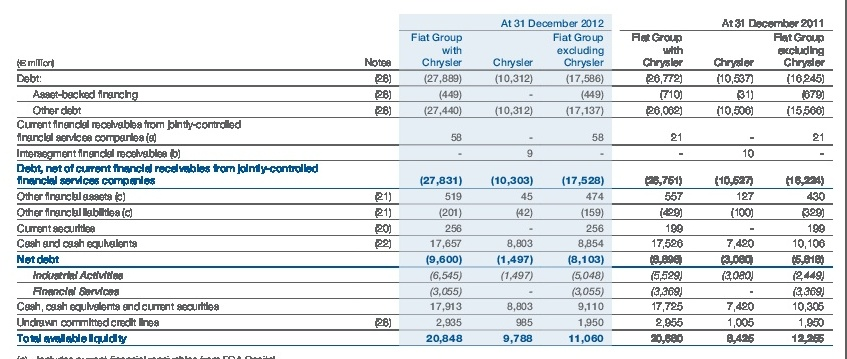table: (0, 0, 847, 359)
